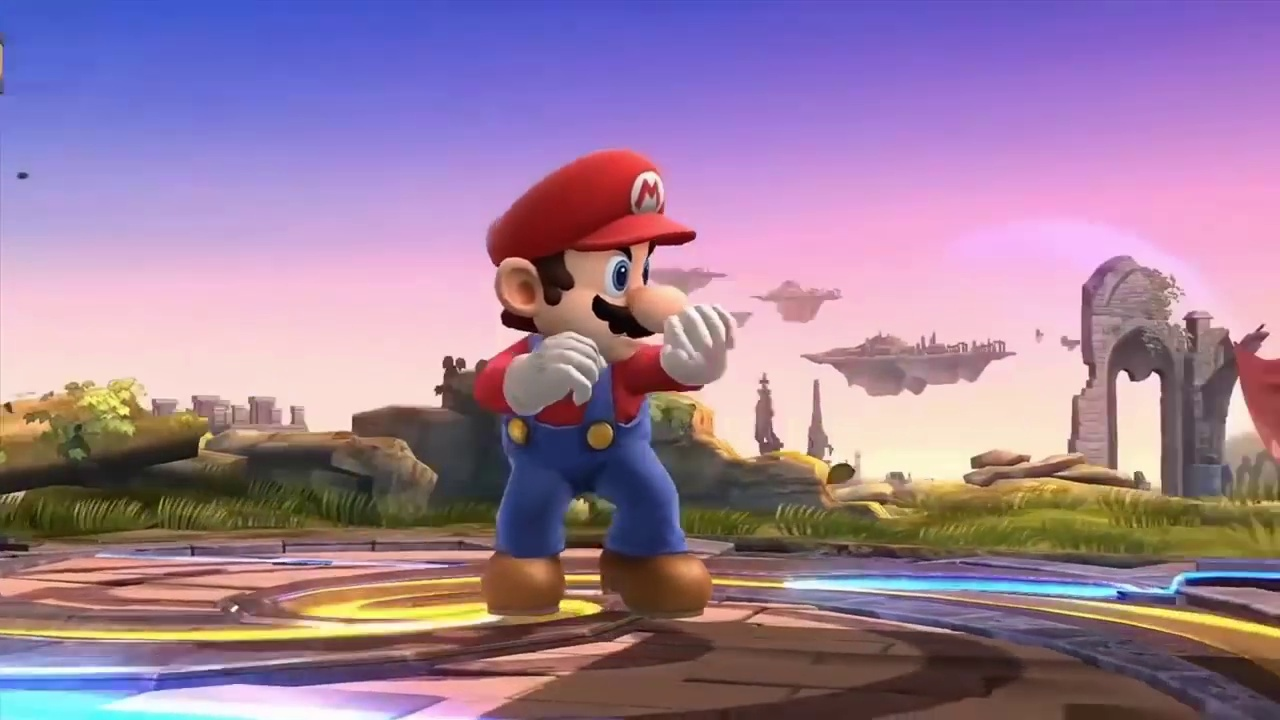Mario: (486, 149, 737, 617)
